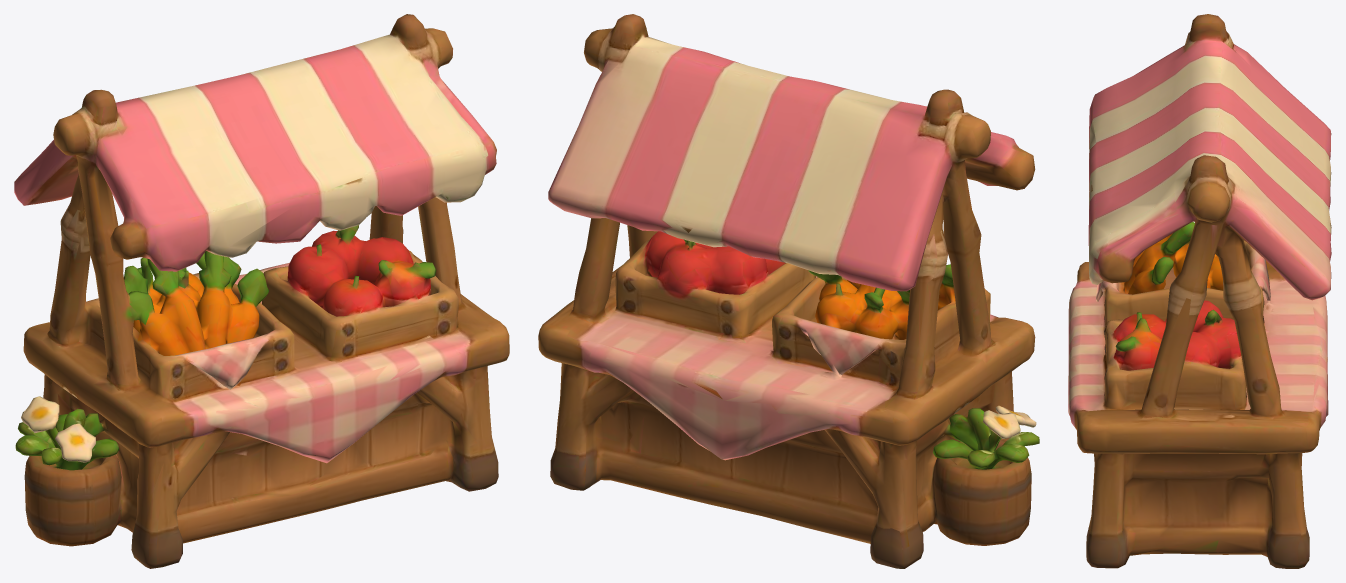
3 views of the same model, side by side, from view 1: azimuth 30°, elevation 25°; view 2: azimuth 150°, elevation 25°; view 3: azimuth 270°, elevation 25° (orthographic). The views are drawn at different scales.
Parts seen in each view (by area): view 1: market-stall; view 2: market-stall; view 3: market-stall.
Part boxes in pixels (x1=…): market-stall: x1=14, y1=14, x2=509, y2=568; market-stall: x1=538, y1=14, x2=1039, y2=568; market-stall: x1=1068, y1=14, x2=1331, y2=568.
Size of the model in its own units: 2.4 by 2.3 by 1.36.
1 material, 1 textured.
